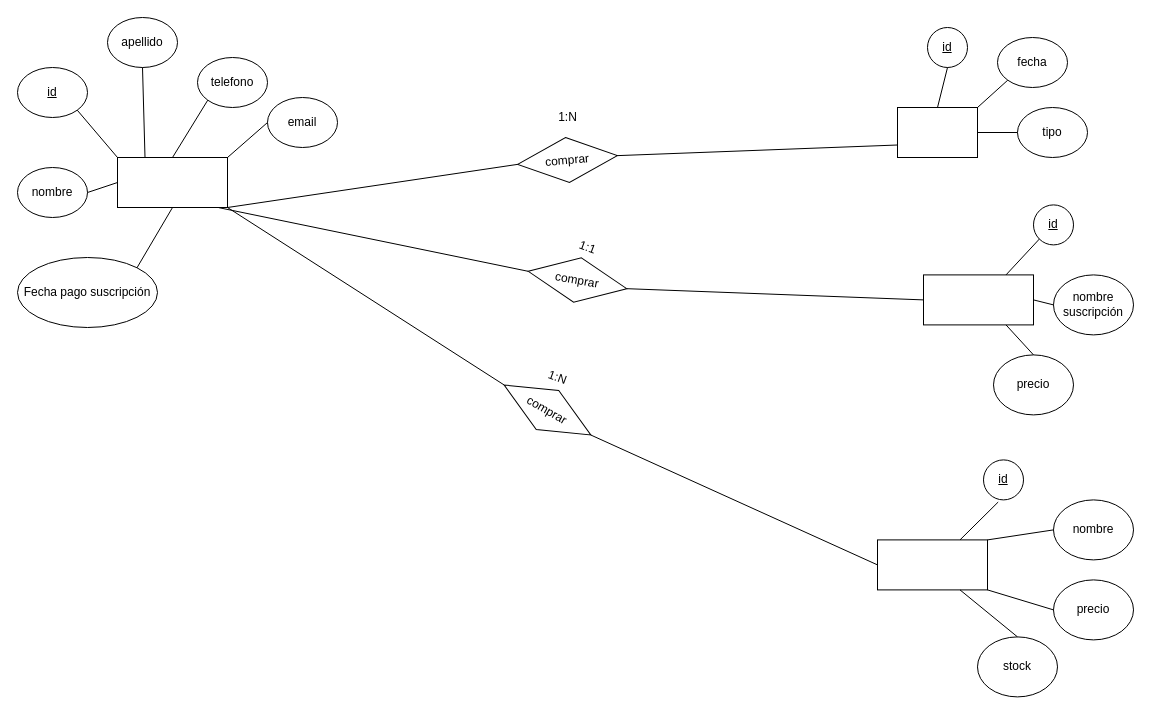
Image size: 1151x715. Some labels were removed from this diagram. Here are the shapes that lost their labels. From the top down, the centre of each, then its label:
At [937,132]: "Pase diario".
At [172,182]: "Cliente".
At [978,299]: "Suscripción".
At [932,564]: "producto".
